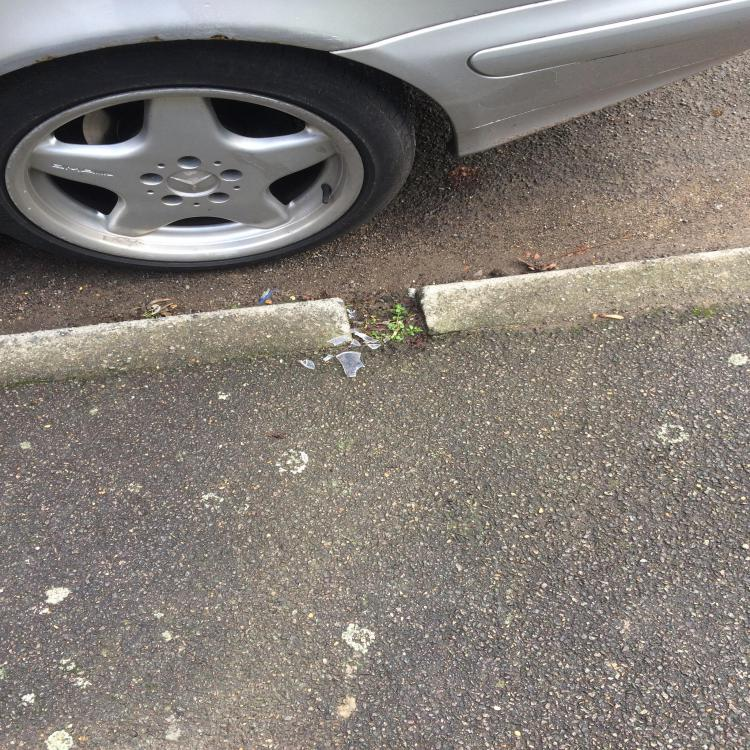Other plastic wrapper: (335, 351, 365, 377)
Unlabeled litter: (354, 330, 379, 344), (327, 335, 350, 346), (300, 360, 314, 370), (350, 338, 361, 346), (322, 355, 334, 361), (368, 344, 382, 349)
